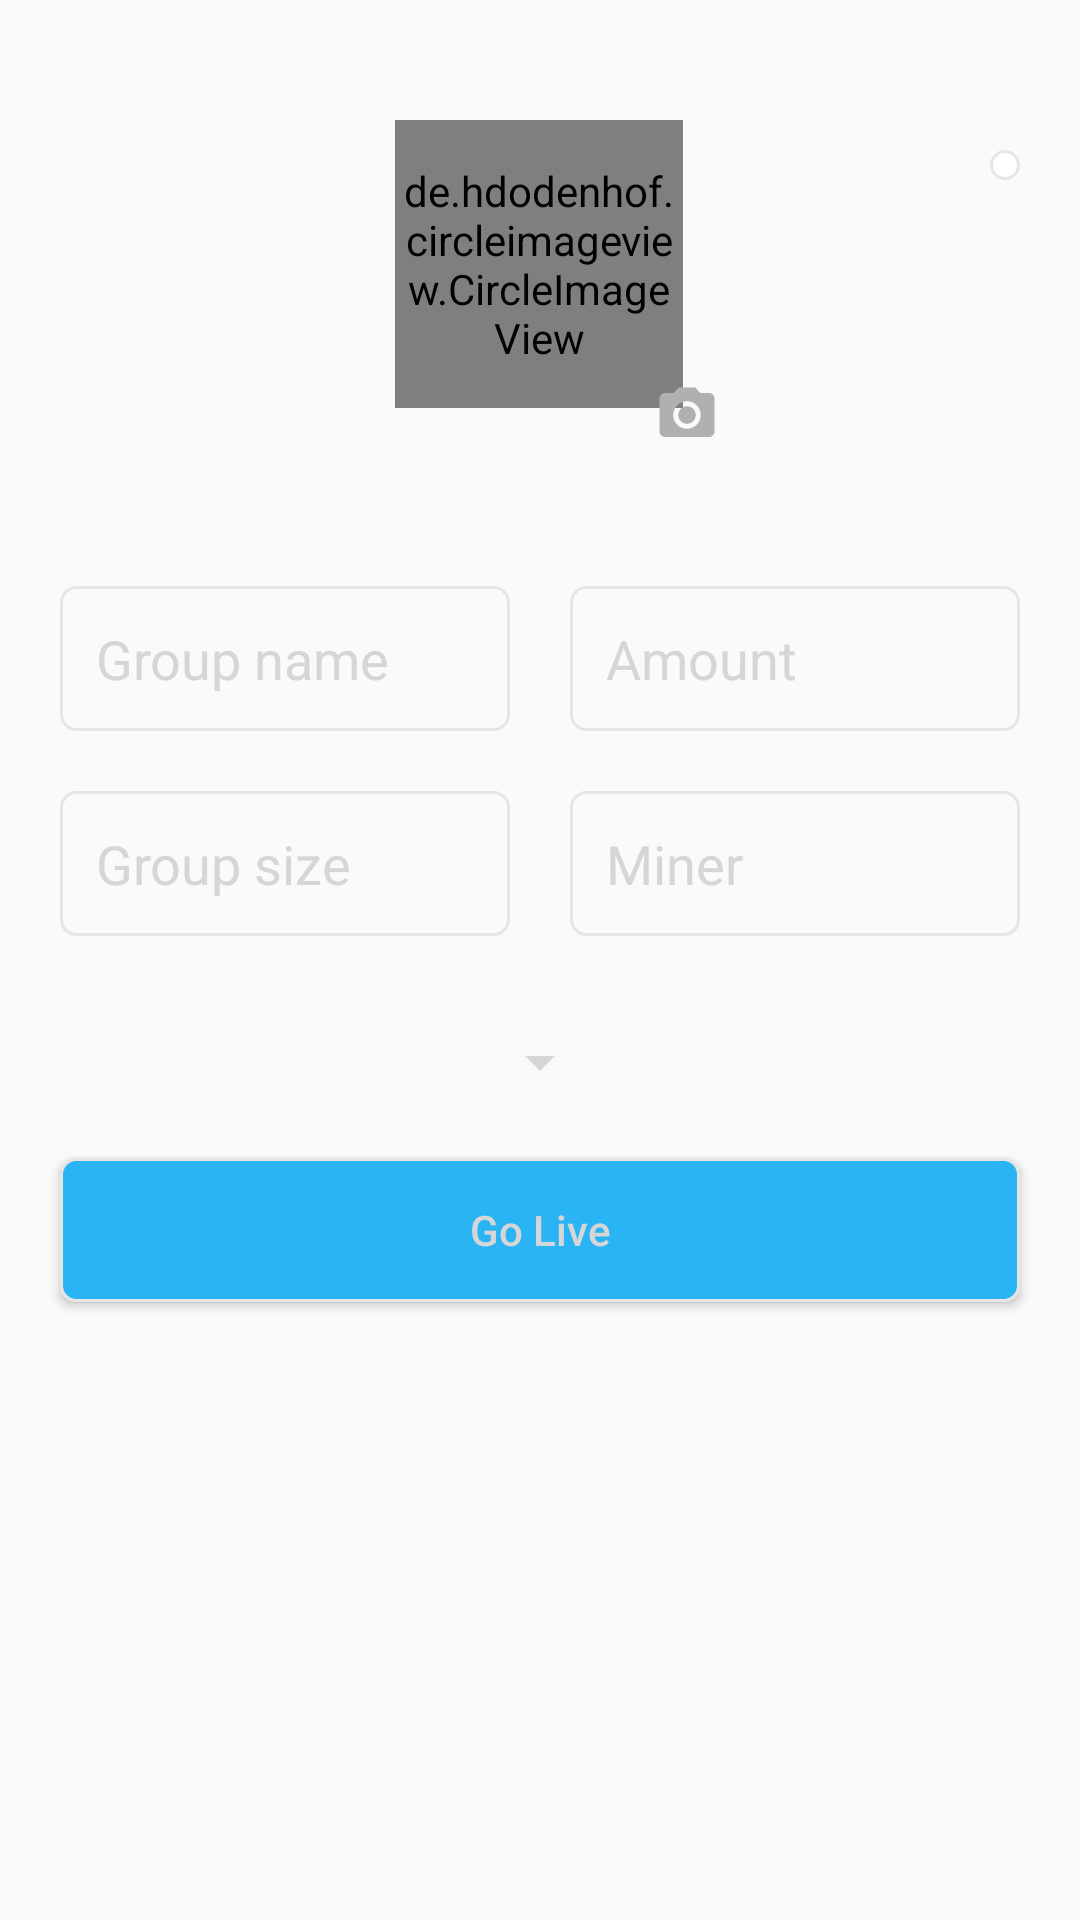

Icon click points for this 1080×1920 phone screenshot, format point (x, y):
camera: point (684, 400)
